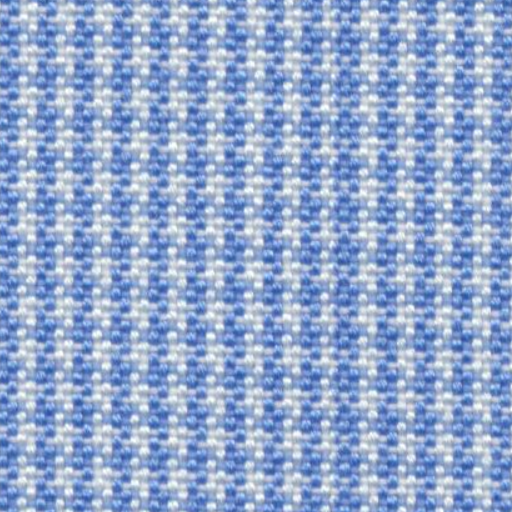TuoSha: (289, 14, 413, 490)
